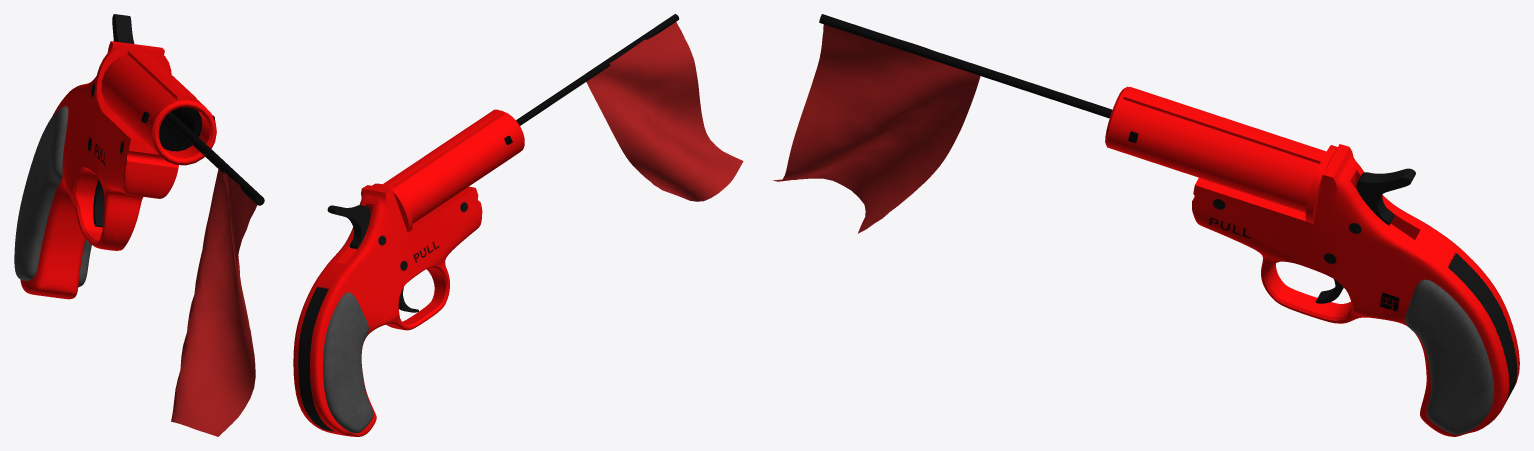
The model's file is pistolet_z_flaga.fbx.
3 views of the same model, side by side, from view 1: azimuth 30°, elevation 25°; view 2: azimuth 150°, elevation 25°; view 3: azimuth 270°, elevation 25° (orthographic). The views are drawn at different scales.
Visible parts, largest first — view 1: Plane.004, Flag ShapeKeys_2_4_7, Cylinder.001, Cylinder, Cube.003; view 2: Plane.004, Flag ShapeKeys_2_4_7, Cylinder.001, Cylinder, Cube.003; view 3: Plane.004, Flag ShapeKeys_2_4_7, Cylinder.001, Cylinder, Cube.003.
Part boxes in pixels (x1,y1,x2,y2): Plane.004: (14, 41, 178, 299); Flag ShapeKeys_2_4_7: (171, 169, 256, 436); Cylinder.001: (101, 49, 216, 165); Cylinder: (164, 112, 264, 205); Cube.003: (93, 14, 134, 227); Plane.004: (293, 183, 482, 436); Flag ShapeKeys_2_4_7: (586, 22, 743, 201); Cylinder.001: (383, 109, 524, 223); Cylinder: (516, 14, 679, 125); Cube.003: (327, 205, 418, 312); Plane.004: (1192, 144, 1519, 436); Flag ShapeKeys_2_4_7: (772, 24, 980, 233); Cylinder.001: (1105, 86, 1326, 212); Cylinder: (819, 14, 1112, 118); Cube.003: (1315, 168, 1415, 303).
Size of the model in its own units: 99.92 by 136 by 257.
